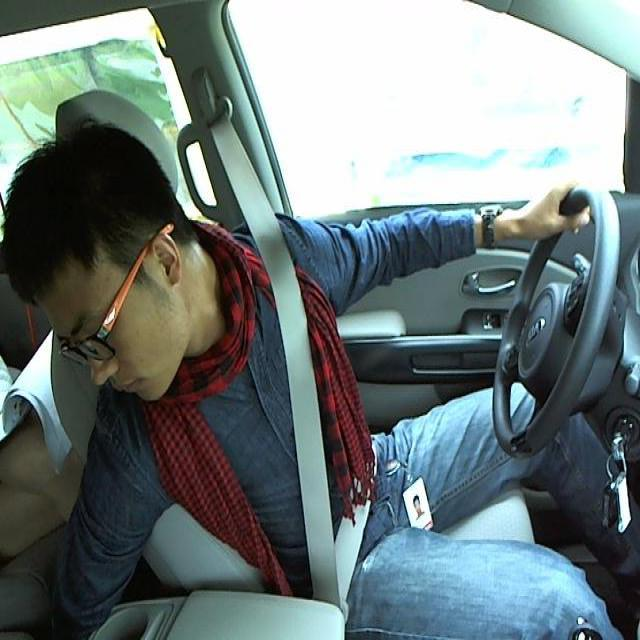seatbelt: (238, 225, 374, 588)
